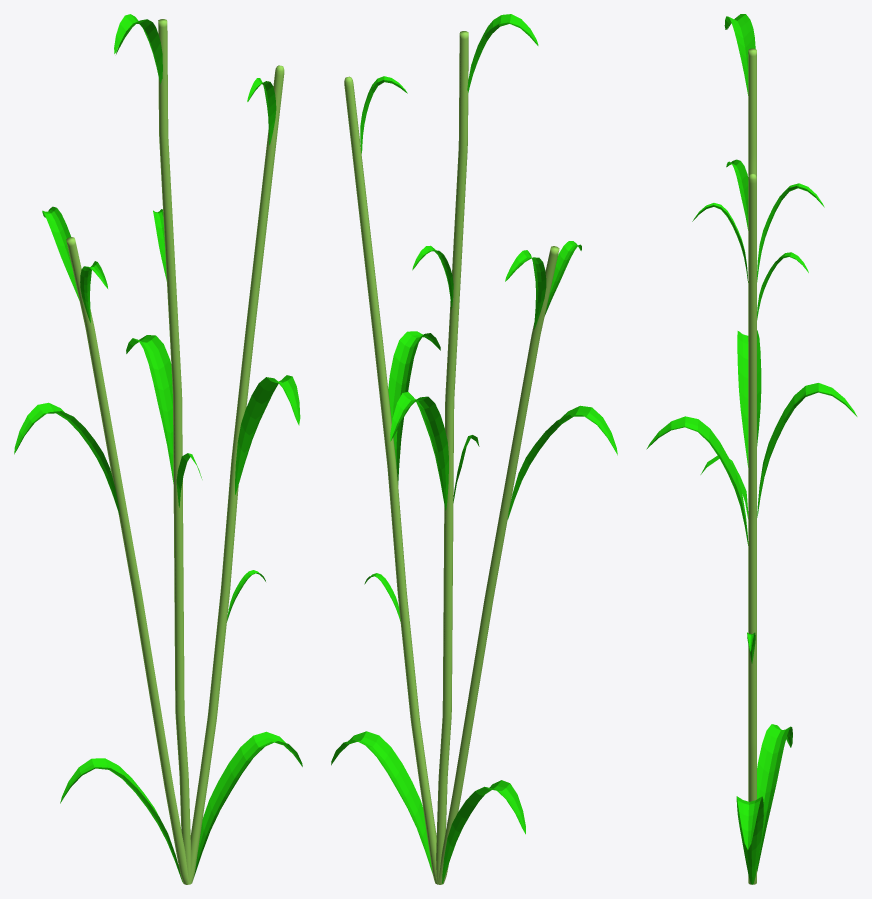
File: Pad2.fbx
The picture shows the model from 3 angles, left to right: view 1: azimuth 30°, elevation 25°; view 2: azimuth 150°, elevation 25°; view 3: azimuth 270°, elevation 25°; orthographic projection. The views are drawn at different scales.
Parts seen in each view (by area): view 1: Vert.006; view 2: Vert.006; view 3: Vert.006.
Part boxes in pixels (bbox=[...]): Vert.006: bbox=[14, 14, 302, 884]; Vert.006: bbox=[331, 14, 617, 884]; Vert.006: bbox=[646, 14, 857, 884].
Size of the model in its own units: 626 by 1831 by 419.
